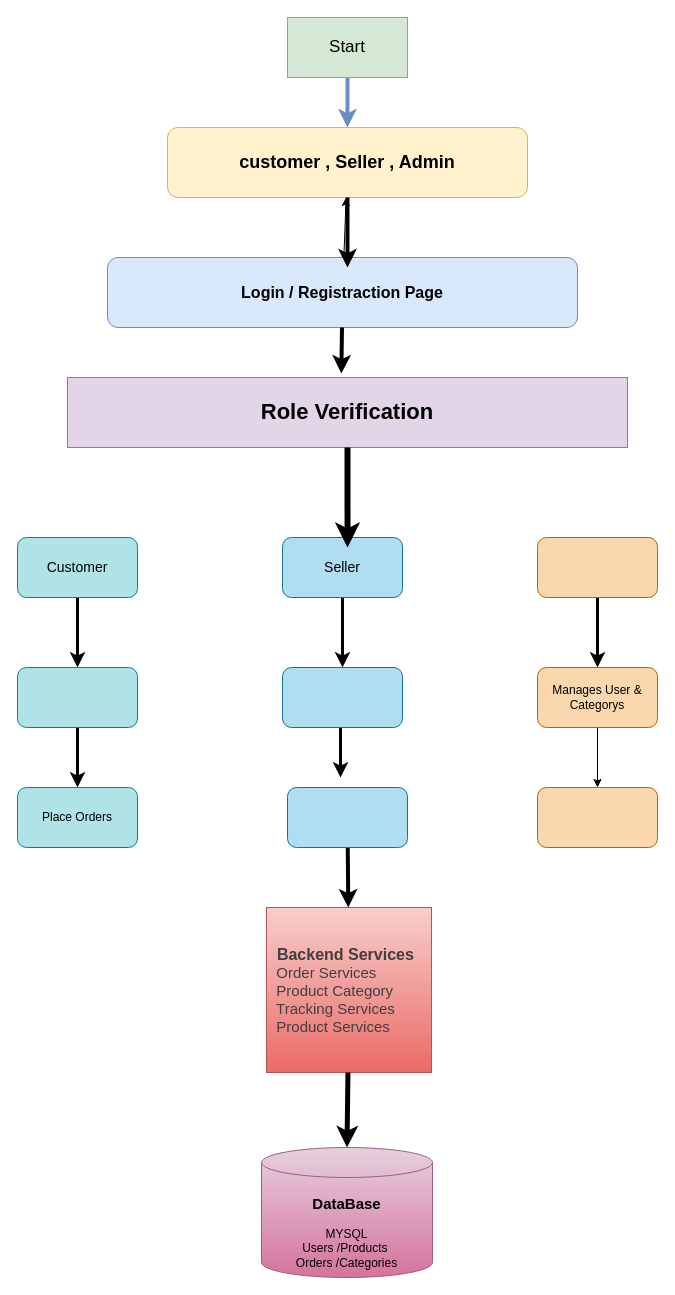
This 675x1295 diagram has some shape labels left out. The centre of each missing label's shape, as x and y in pixels:
"Admin" belongs at point (597, 567).
"Brower Products" belongs at point (77, 697).
"Manage Products" belongs at point (342, 697).
"View Data & Delete Data" belongs at point (597, 817).
"View Orders" belongs at point (347, 817).
